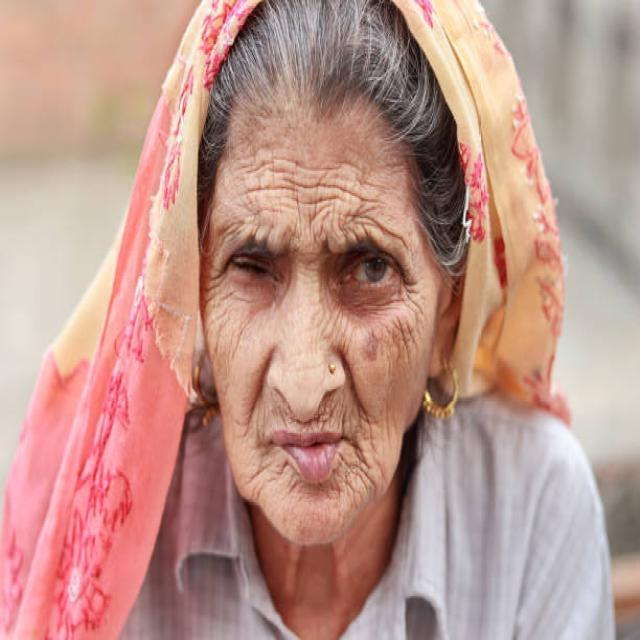dry: (340, 296, 440, 476), (238, 108, 385, 226)
